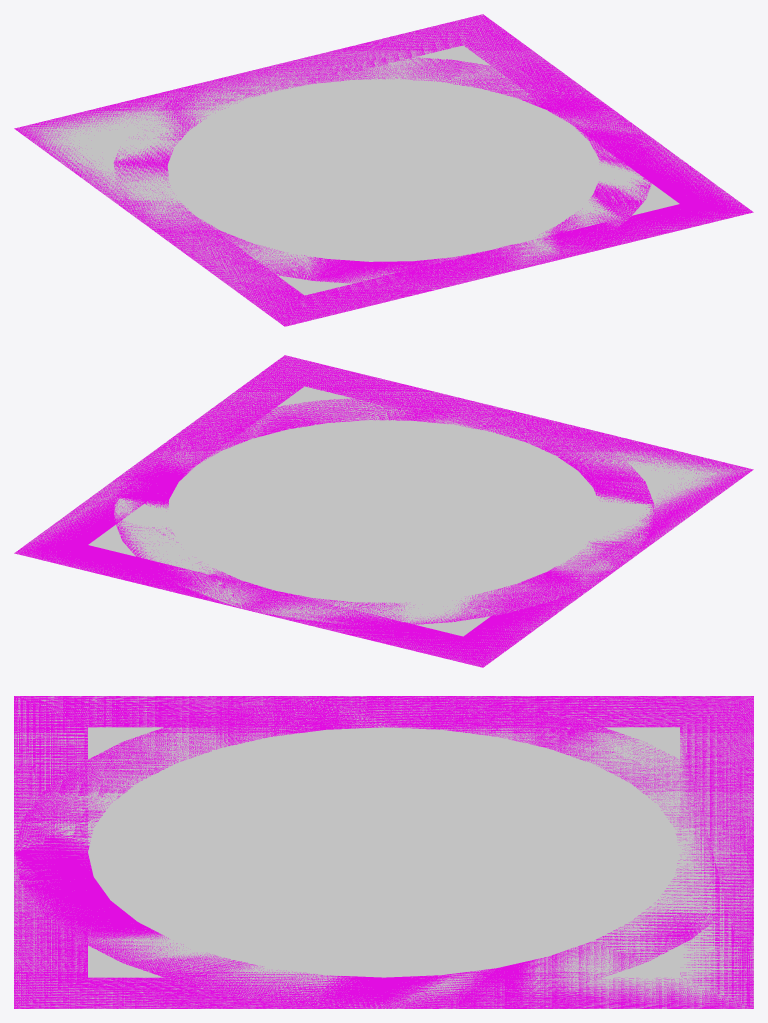
The model's file is OutlinesMulti.fbx.
3 renders of one model, top to bottom at view 1: azimuth 30°, elevation 25°; view 2: azimuth 150°, elevation 25°; view 3: azimuth 270°, elevation 25°, orthographic. The views are drawn at different scales.
Parts seen in each view (by area): view 1: Plane, Circle, PlaneOutline, CircleOutline; view 2: Circle, PlaneOutline, Plane, CircleOutline; view 3: Plane, Circle, PlaneOutline, CircleOutline.
Boxes of the visible parts, bbox=[...] form: Plane: bbox=[15, 14, 752, 326]; Circle: bbox=[114, 56, 651, 283]; PlaneOutline: bbox=[14, 14, 753, 326]; CircleOutline: bbox=[113, 56, 651, 283]; Circle: bbox=[114, 397, 654, 625]; PlaneOutline: bbox=[14, 355, 753, 667]; Plane: bbox=[15, 356, 752, 667]; CircleOutline: bbox=[114, 397, 653, 625]; Plane: bbox=[14, 696, 753, 1008]; Circle: bbox=[14, 698, 737, 1008]; PlaneOutline: bbox=[14, 696, 753, 1008]; CircleOutline: bbox=[14, 696, 749, 1008].
Size of the model in its own units: 200 by 3.26e-05 by 200.
